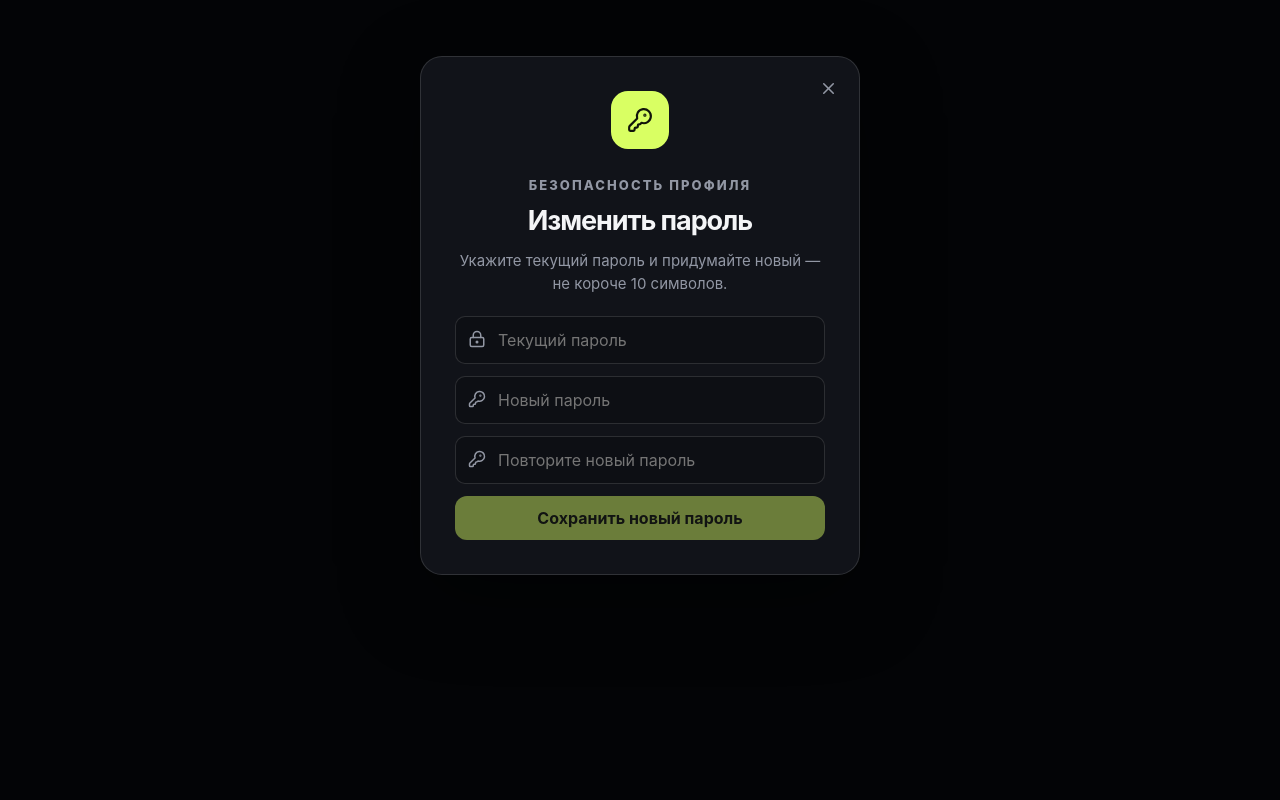
it: PasswordChangeModal › does not submit mismatching passwords
In the password field with placeholder "Текущий пароль": (640, 340) [455,316,825,364], type "28051961"
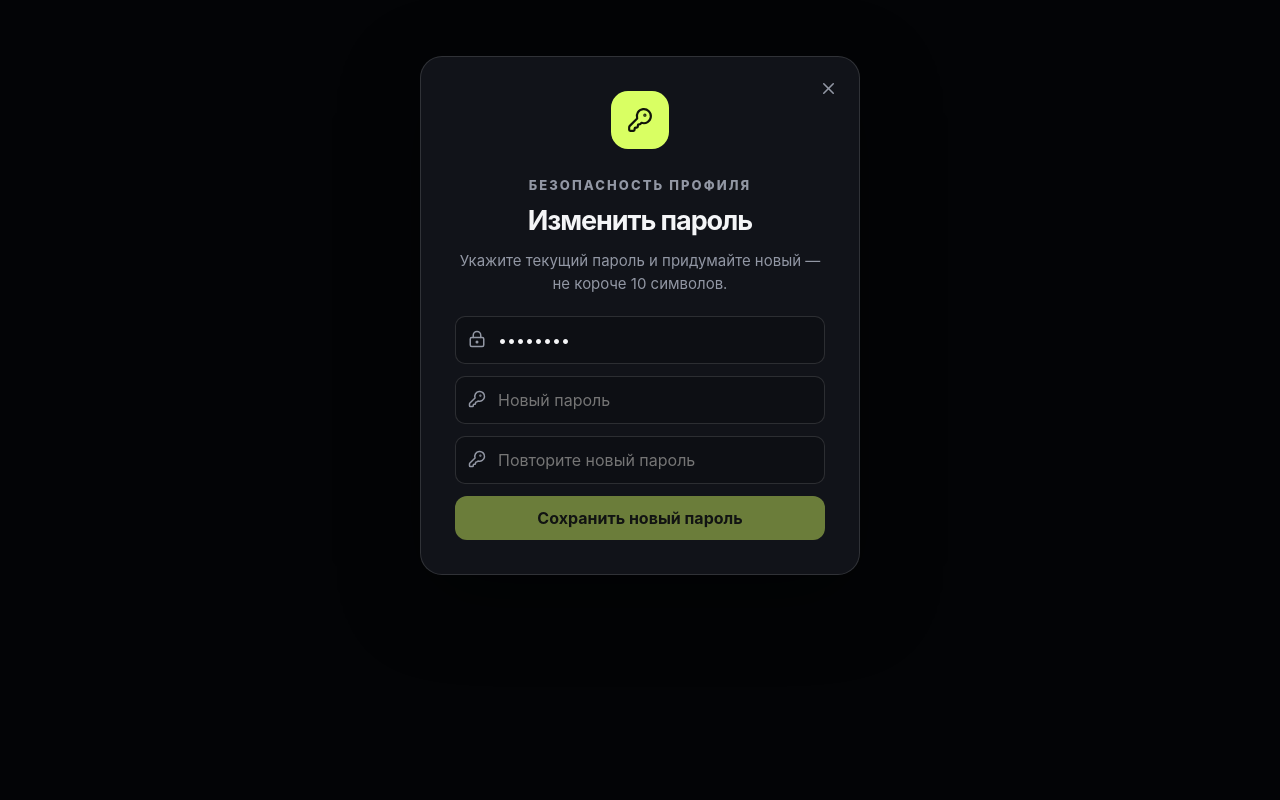
In the password field with placeholder "Новый пароль": (640, 400) [455,376,825,424], type "another-secure-password"
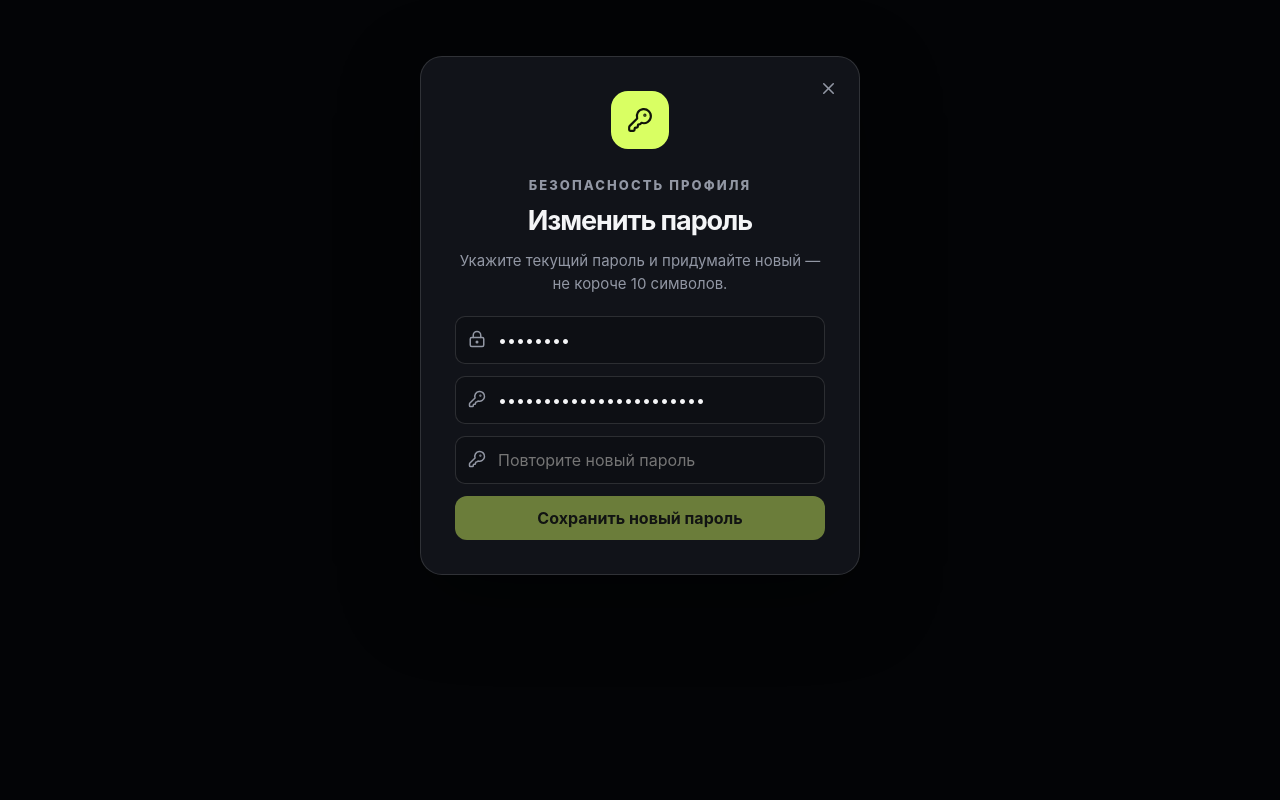
In the password field with placeholder "Повторите новый пароль": (640, 460) [455,436,825,484], type "different-secure-password"
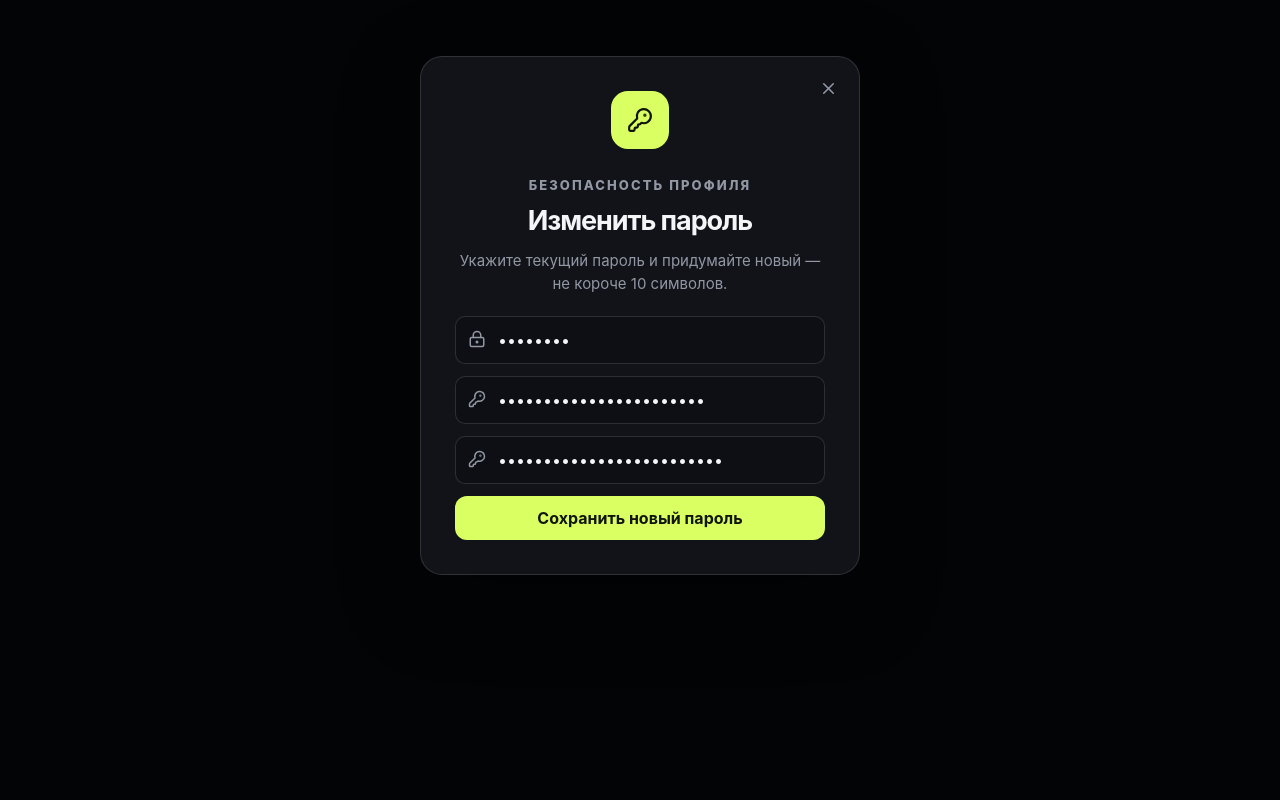
Click the button "Сохранить новый пароль": (640, 518) [455,496,825,540]
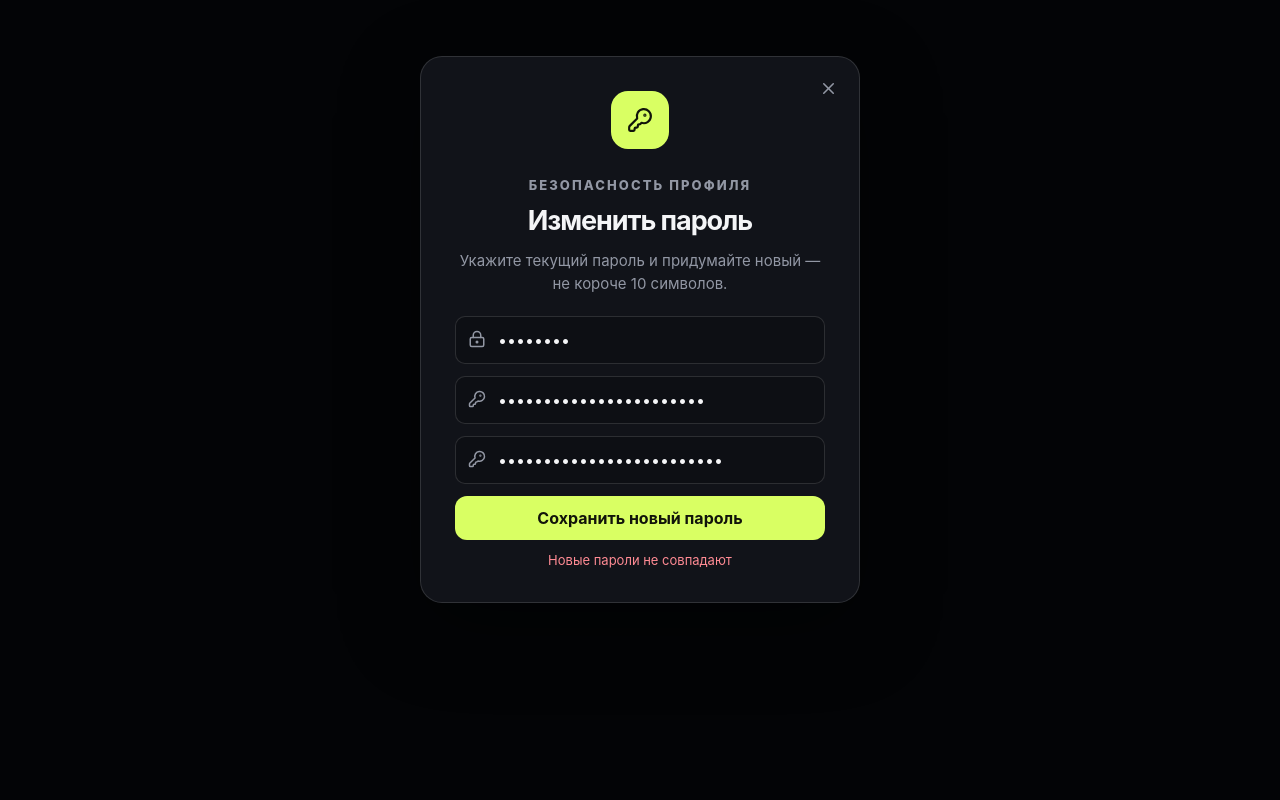
Check: the text "Новые пароли не совпадают" is shown, box [548,552,732,568]
